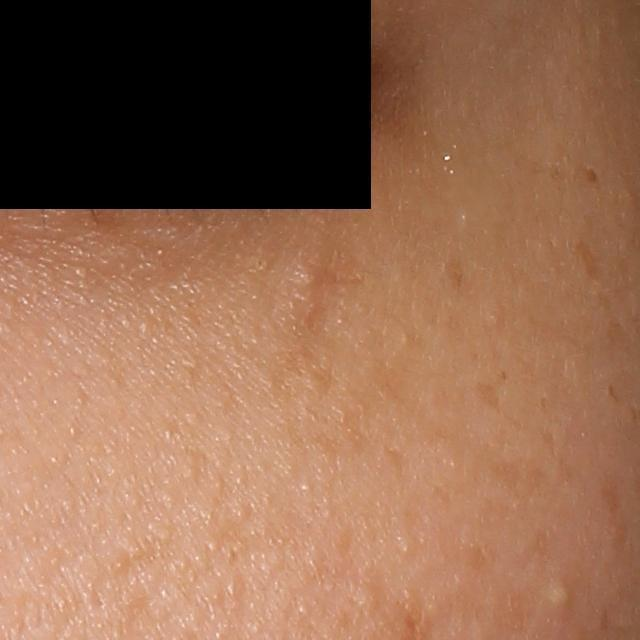comedo: (290, 258, 323, 297), (539, 580, 570, 613), (396, 532, 418, 560)
melasma: (257, 323, 332, 393), (487, 457, 549, 495), (571, 222, 603, 275), (439, 246, 468, 290), (474, 377, 507, 412), (605, 381, 619, 402)
